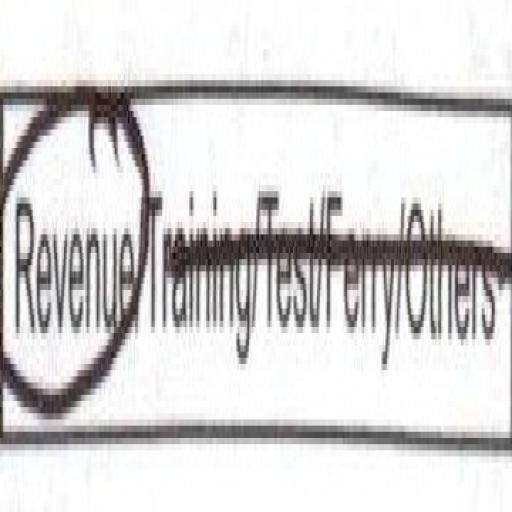check: (0, 43, 145, 469)
